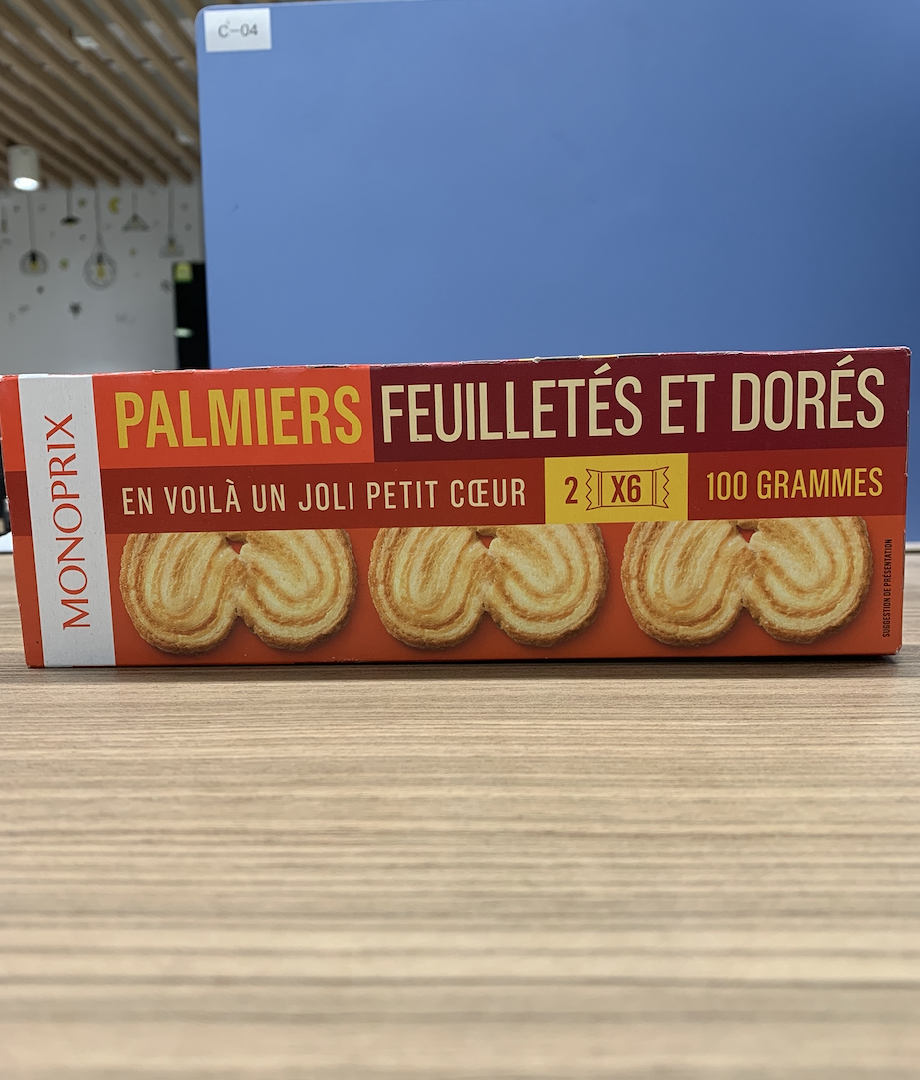cookies_150g: (33, 366, 898, 651)
